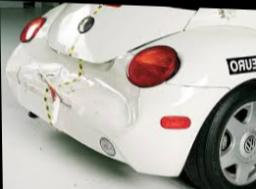Bumper: (4, 45, 144, 160)
